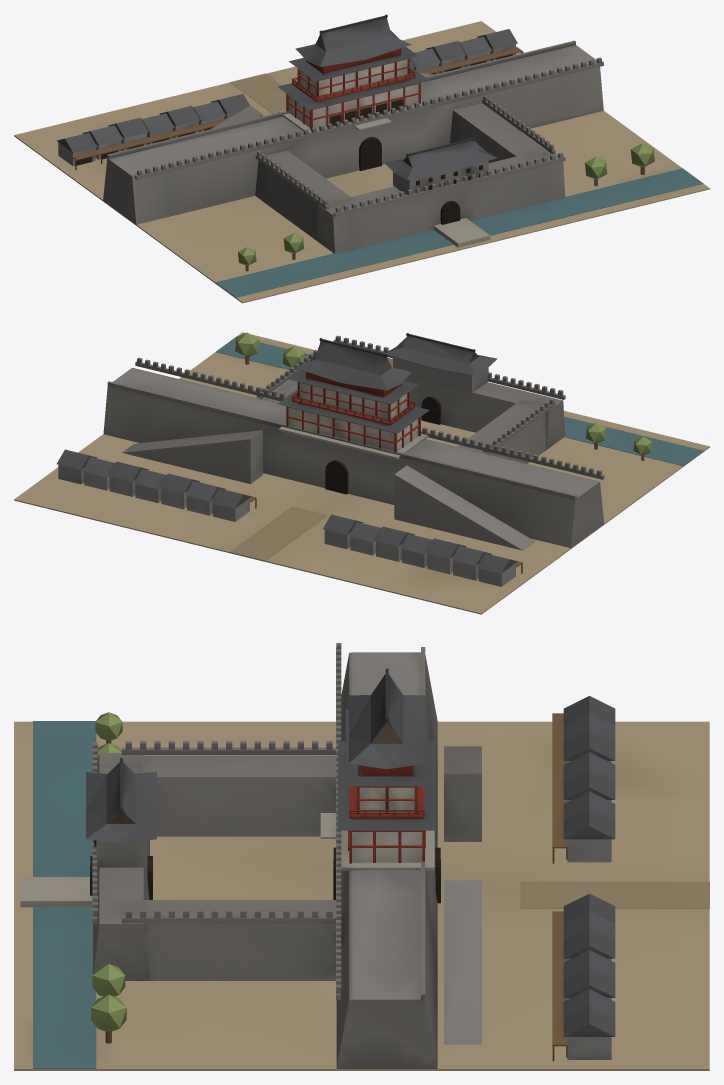
The model's file is south-gate-ming.glb.
3 renders of one model, top to bottom at view 1: azimuth 30°, elevation 25°; view 2: azimuth 150°, elevation 25°; view 3: azimuth 270°, elevation 25°, orthographic. The views are drawn at different scales.
Visible parts, largest first — view 1: p0_walls, p1_town, p2_trees; view 2: p0_walls, p1_town, p2_trees; view 3: p0_walls, p1_town, p2_trees.
Part boxes in pixels (x1=…): p0_walls: x1=14, y1=21, x2=709, y2=303; p1_town: x1=57, y1=29, x2=522, y2=224; p2_trees: x1=238, y1=14, x2=654, y2=271; p0_walls: x1=14, y1=332, x2=709, y2=614; p1_town: x1=56, y1=356, x2=522, y2=586; p2_trees: x1=235, y1=332, x2=652, y2=460; p0_walls: x1=14, y1=643, x2=709, y2=1070; p1_town: x1=90, y1=696, x2=615, y2=1061; p2_trees: x1=86, y1=668, x2=436, y2=1043.
Bounding box in the file's own units: 130 × 35.58 × 110.
